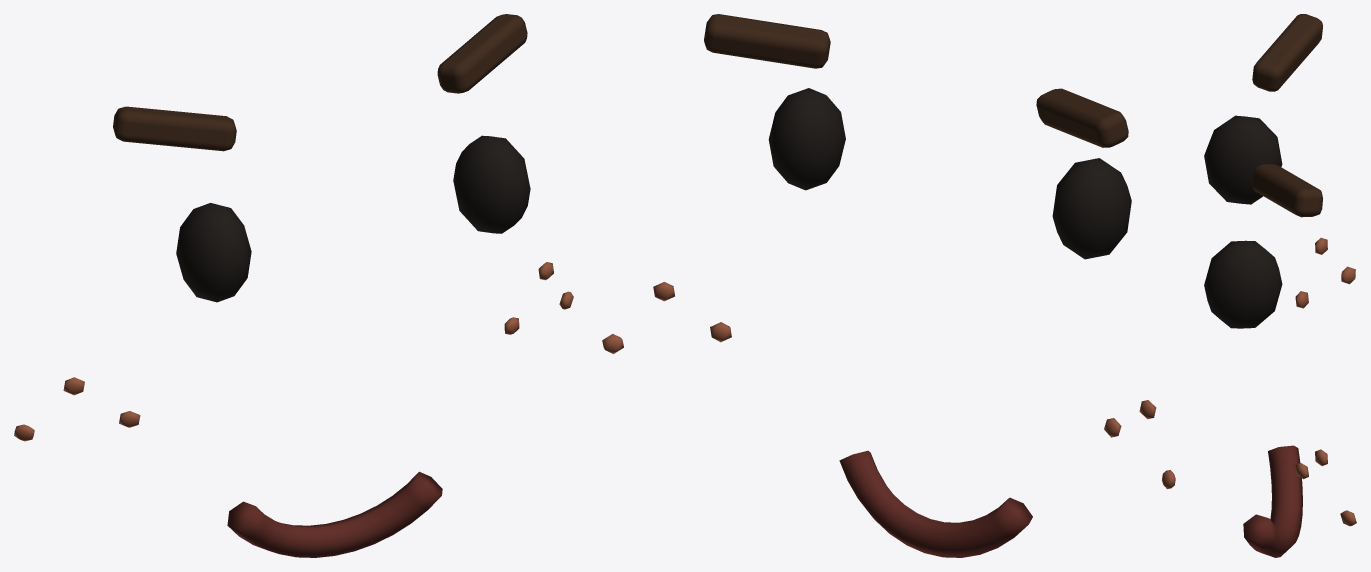
File: 12-freckle-friend.glb
3 renders of one model, left to right at view 1: azimuth 30°, elevation 25°; view 2: azimuth 150°, elevation 25°; view 3: azimuth 270°, elevation 25°, orthographic. The views are drawn at different scales.
Parts seen in each view (by area): view 1: Face12_Mouth, Face12_Eye1, Face12_Eye-1, Face12_Brow-1, Face12_Brow1; view 2: Face12_Mouth, Face12_Eye-1, Face12_Eye1, Face12_Brow1, Face12_Brow-1; view 3: Face12_Eye1, Face12_Eye-1, Face12_Mouth, Face12_Brow-1, Face12_Brow1, Face12_freckles-12.
Part boxes in pixels (x1,y1,x2,y2): Face12_Mouth: (227, 471, 442, 557); Face12_Eye1: (453, 135, 530, 233); Face12_Eye-1: (176, 203, 251, 302); Face12_Brow-1: (113, 106, 236, 151); Face12_Brow1: (437, 14, 527, 93); Face12_Mouth: (839, 450, 1032, 557); Face12_Eye-1: (1052, 158, 1131, 259); Face12_Eye1: (768, 88, 845, 190); Face12_Brow1: (704, 14, 830, 68); Face12_Brow-1: (1036, 88, 1128, 147); Face12_Eye1: (1204, 240, 1282, 328); Face12_Eye-1: (1204, 115, 1282, 204); Face12_Mouth: (1243, 445, 1302, 557); Face12_Brow-1: (1252, 14, 1322, 91); Face12_Brow1: (1252, 164, 1322, 217); Face12_freckles-12: (1341, 266, 1355, 284).
Bounding box in the file's own units: 0.3731 × 0.3091 × 0.0964.
